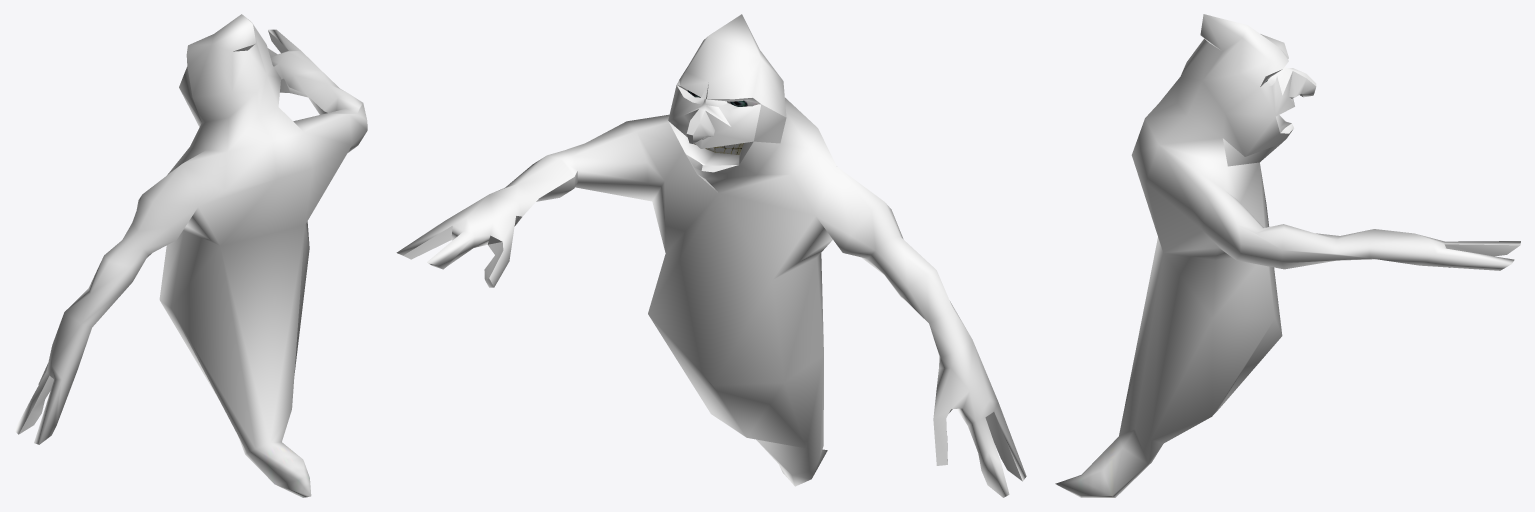
Rendered from BOO.icn.obj.
The picture shows the model from 3 angles, left to right: view 1: azimuth 30°, elevation 25°; view 2: azimuth 150°, elevation 25°; view 3: azimuth 270°, elevation 25°; orthographic projection. The views are drawn at different scales.
Size of the model in its own units: 4.74 by 5 by 4.33.
1 material, 1 textured.
